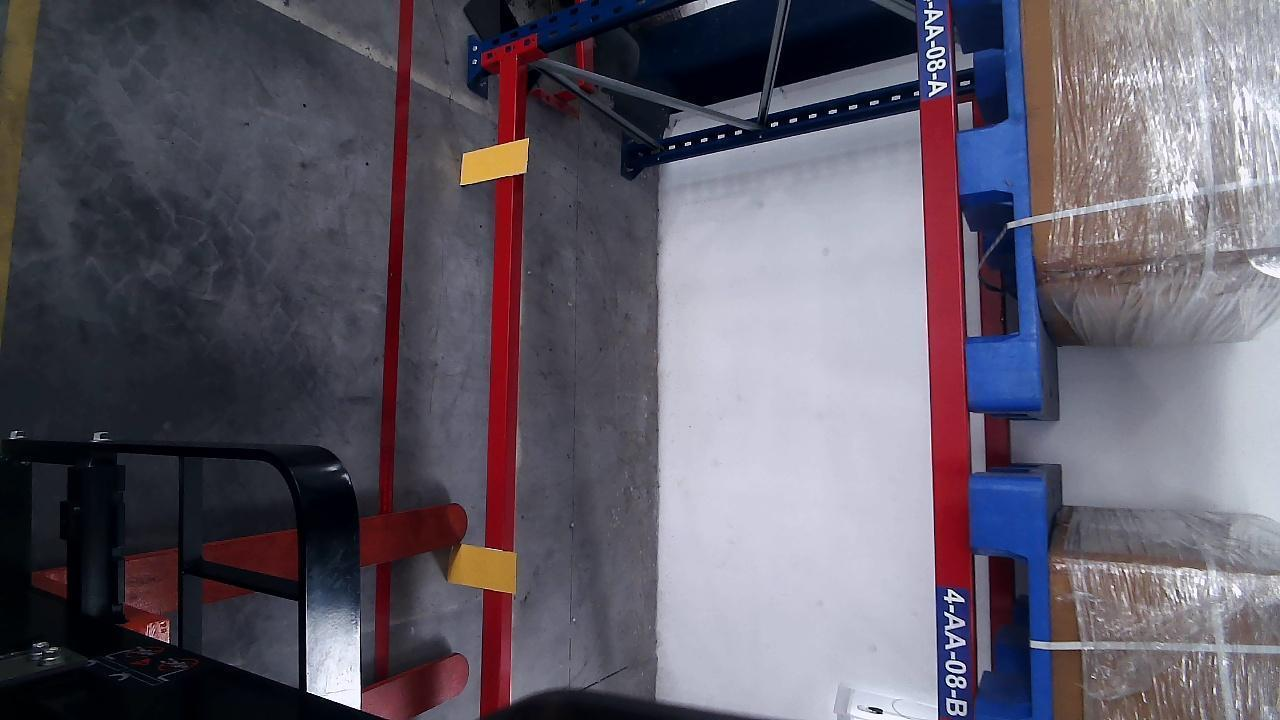red_line: (375, 0, 416, 679)
